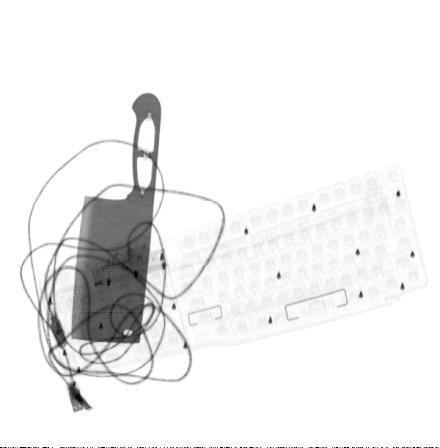Knife: (70, 91, 162, 344)
